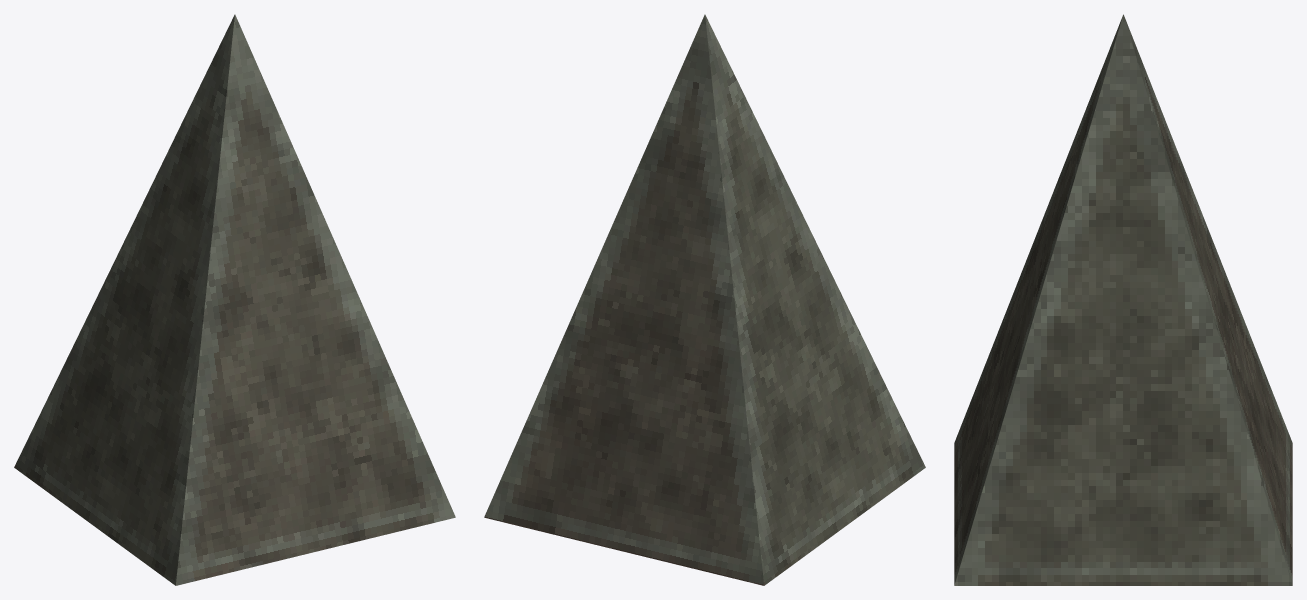
Rendered from spike-variant-2.glb.
3 renders of one model, left to right at view 1: azimuth 30°, elevation 25°; view 2: azimuth 150°, elevation 25°; view 3: azimuth 270°, elevation 25°, orthographic. The views are drawn at different scales.
Parts seen in each view (by area): view 1: Spike_Variant_2; view 2: Spike_Variant_2; view 3: Spike_Variant_2.
Part boxes in pixels (bbox=[...]): Spike_Variant_2: bbox=[14, 14, 455, 585]; Spike_Variant_2: bbox=[484, 14, 925, 585]; Spike_Variant_2: bbox=[954, 14, 1292, 585].
Size of the model in its own units: 0.6014 by 0.9815 by 0.6014.
Materials: 1 (1 with a texture image).
